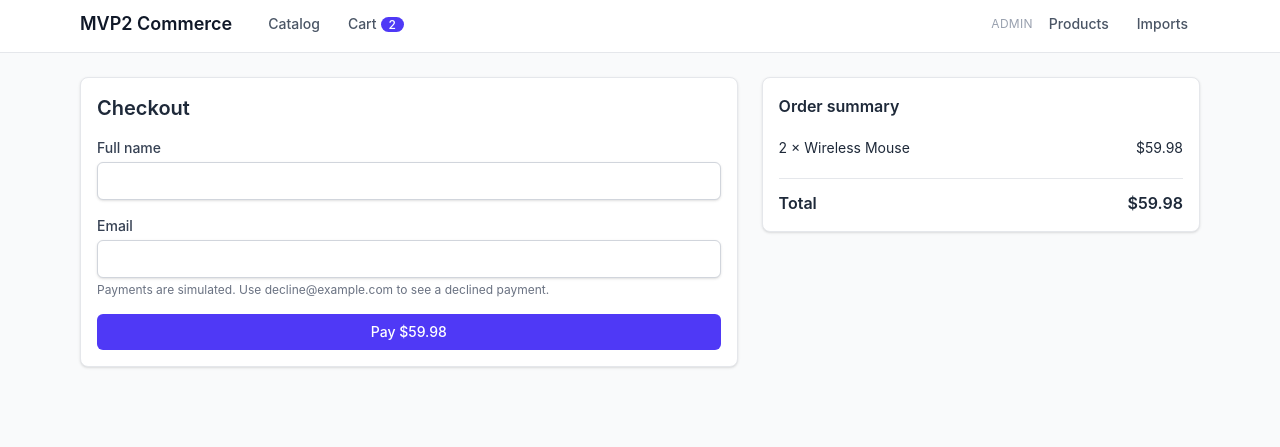
checkout › shows the reason when the payment is declined and keeps the cart
The width and height of the screenshot is (1280, 447).
Type "Ada Lovelace" into the field labelled "Full name" at (409, 181), box [97,162,721,200]
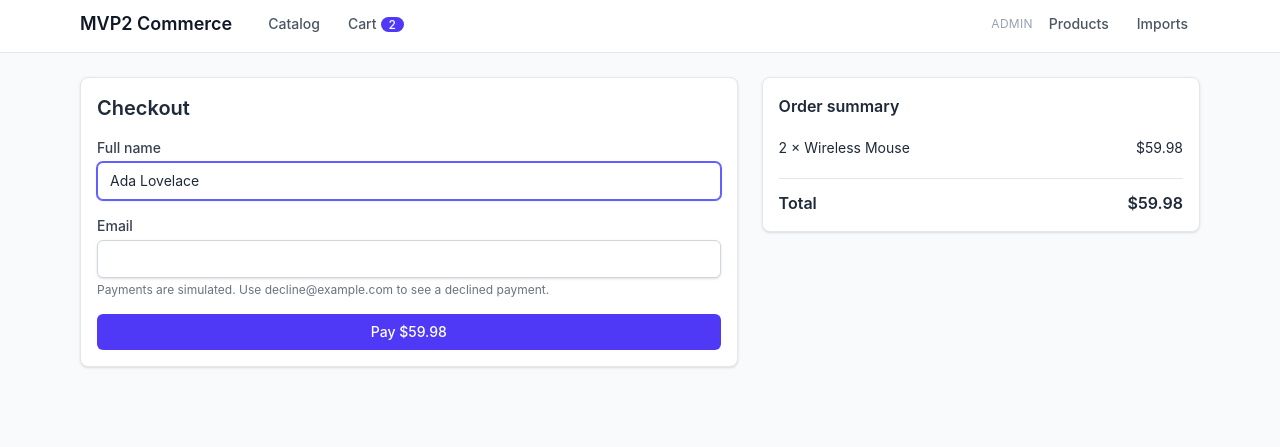
Type "ada@example.com" into the field labelled "Email" at (409, 259), box [97,240,721,278]
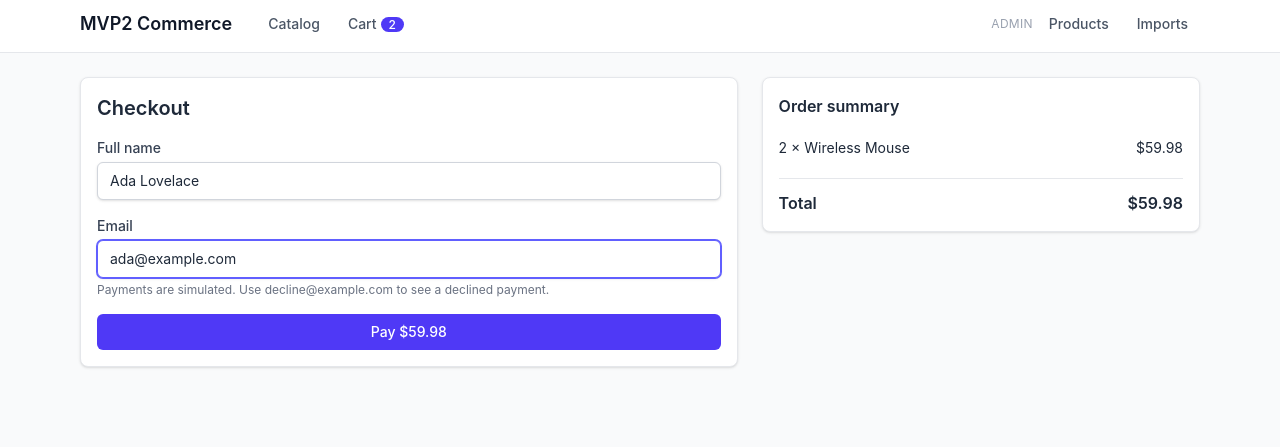
Click the button "Pay $59.98" at (409, 332), box [97,314,721,350]
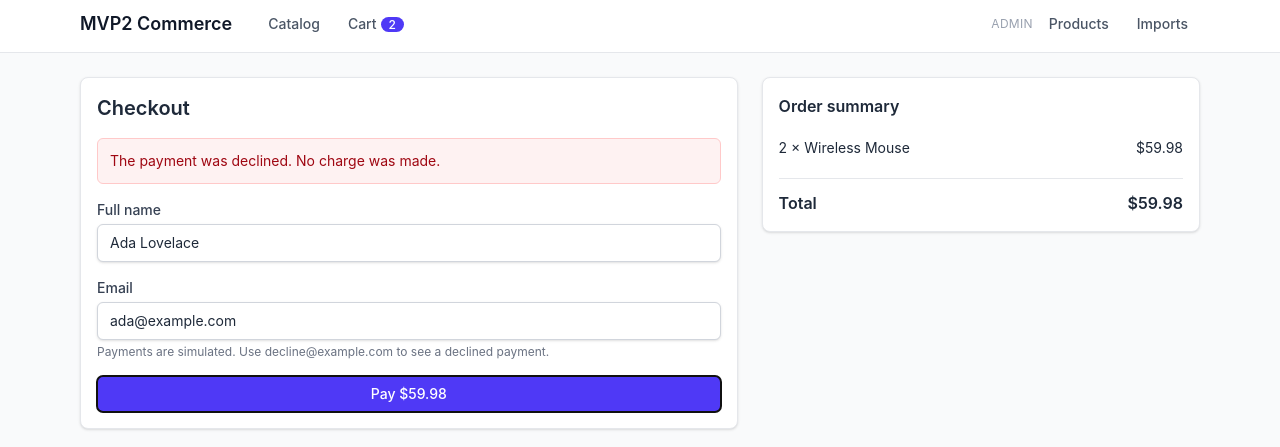
Expected: the message shows "The payment was declined.", [110,152,440,169]
